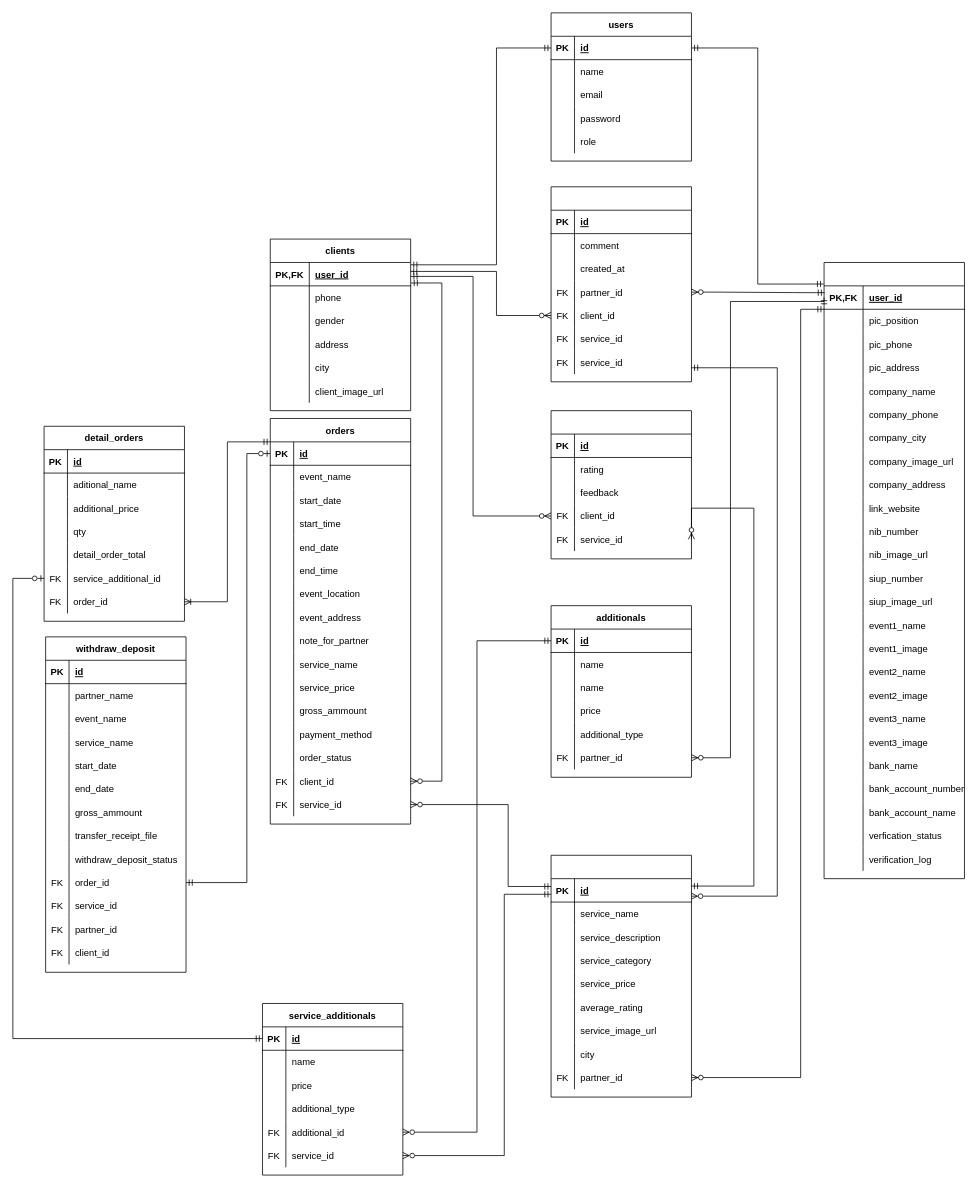
Image size: 977x1188. Some labels were removed from this diagram. The shapes that lost their labels are listed below. From the top down, each one's box as (x1, y1, x2, y2) in pixels, then its label:
(550, 186, 691, 382): discussions
(550, 410, 691, 559): reviews
(823, 262, 964, 879): partners
(550, 854, 691, 1097): services
